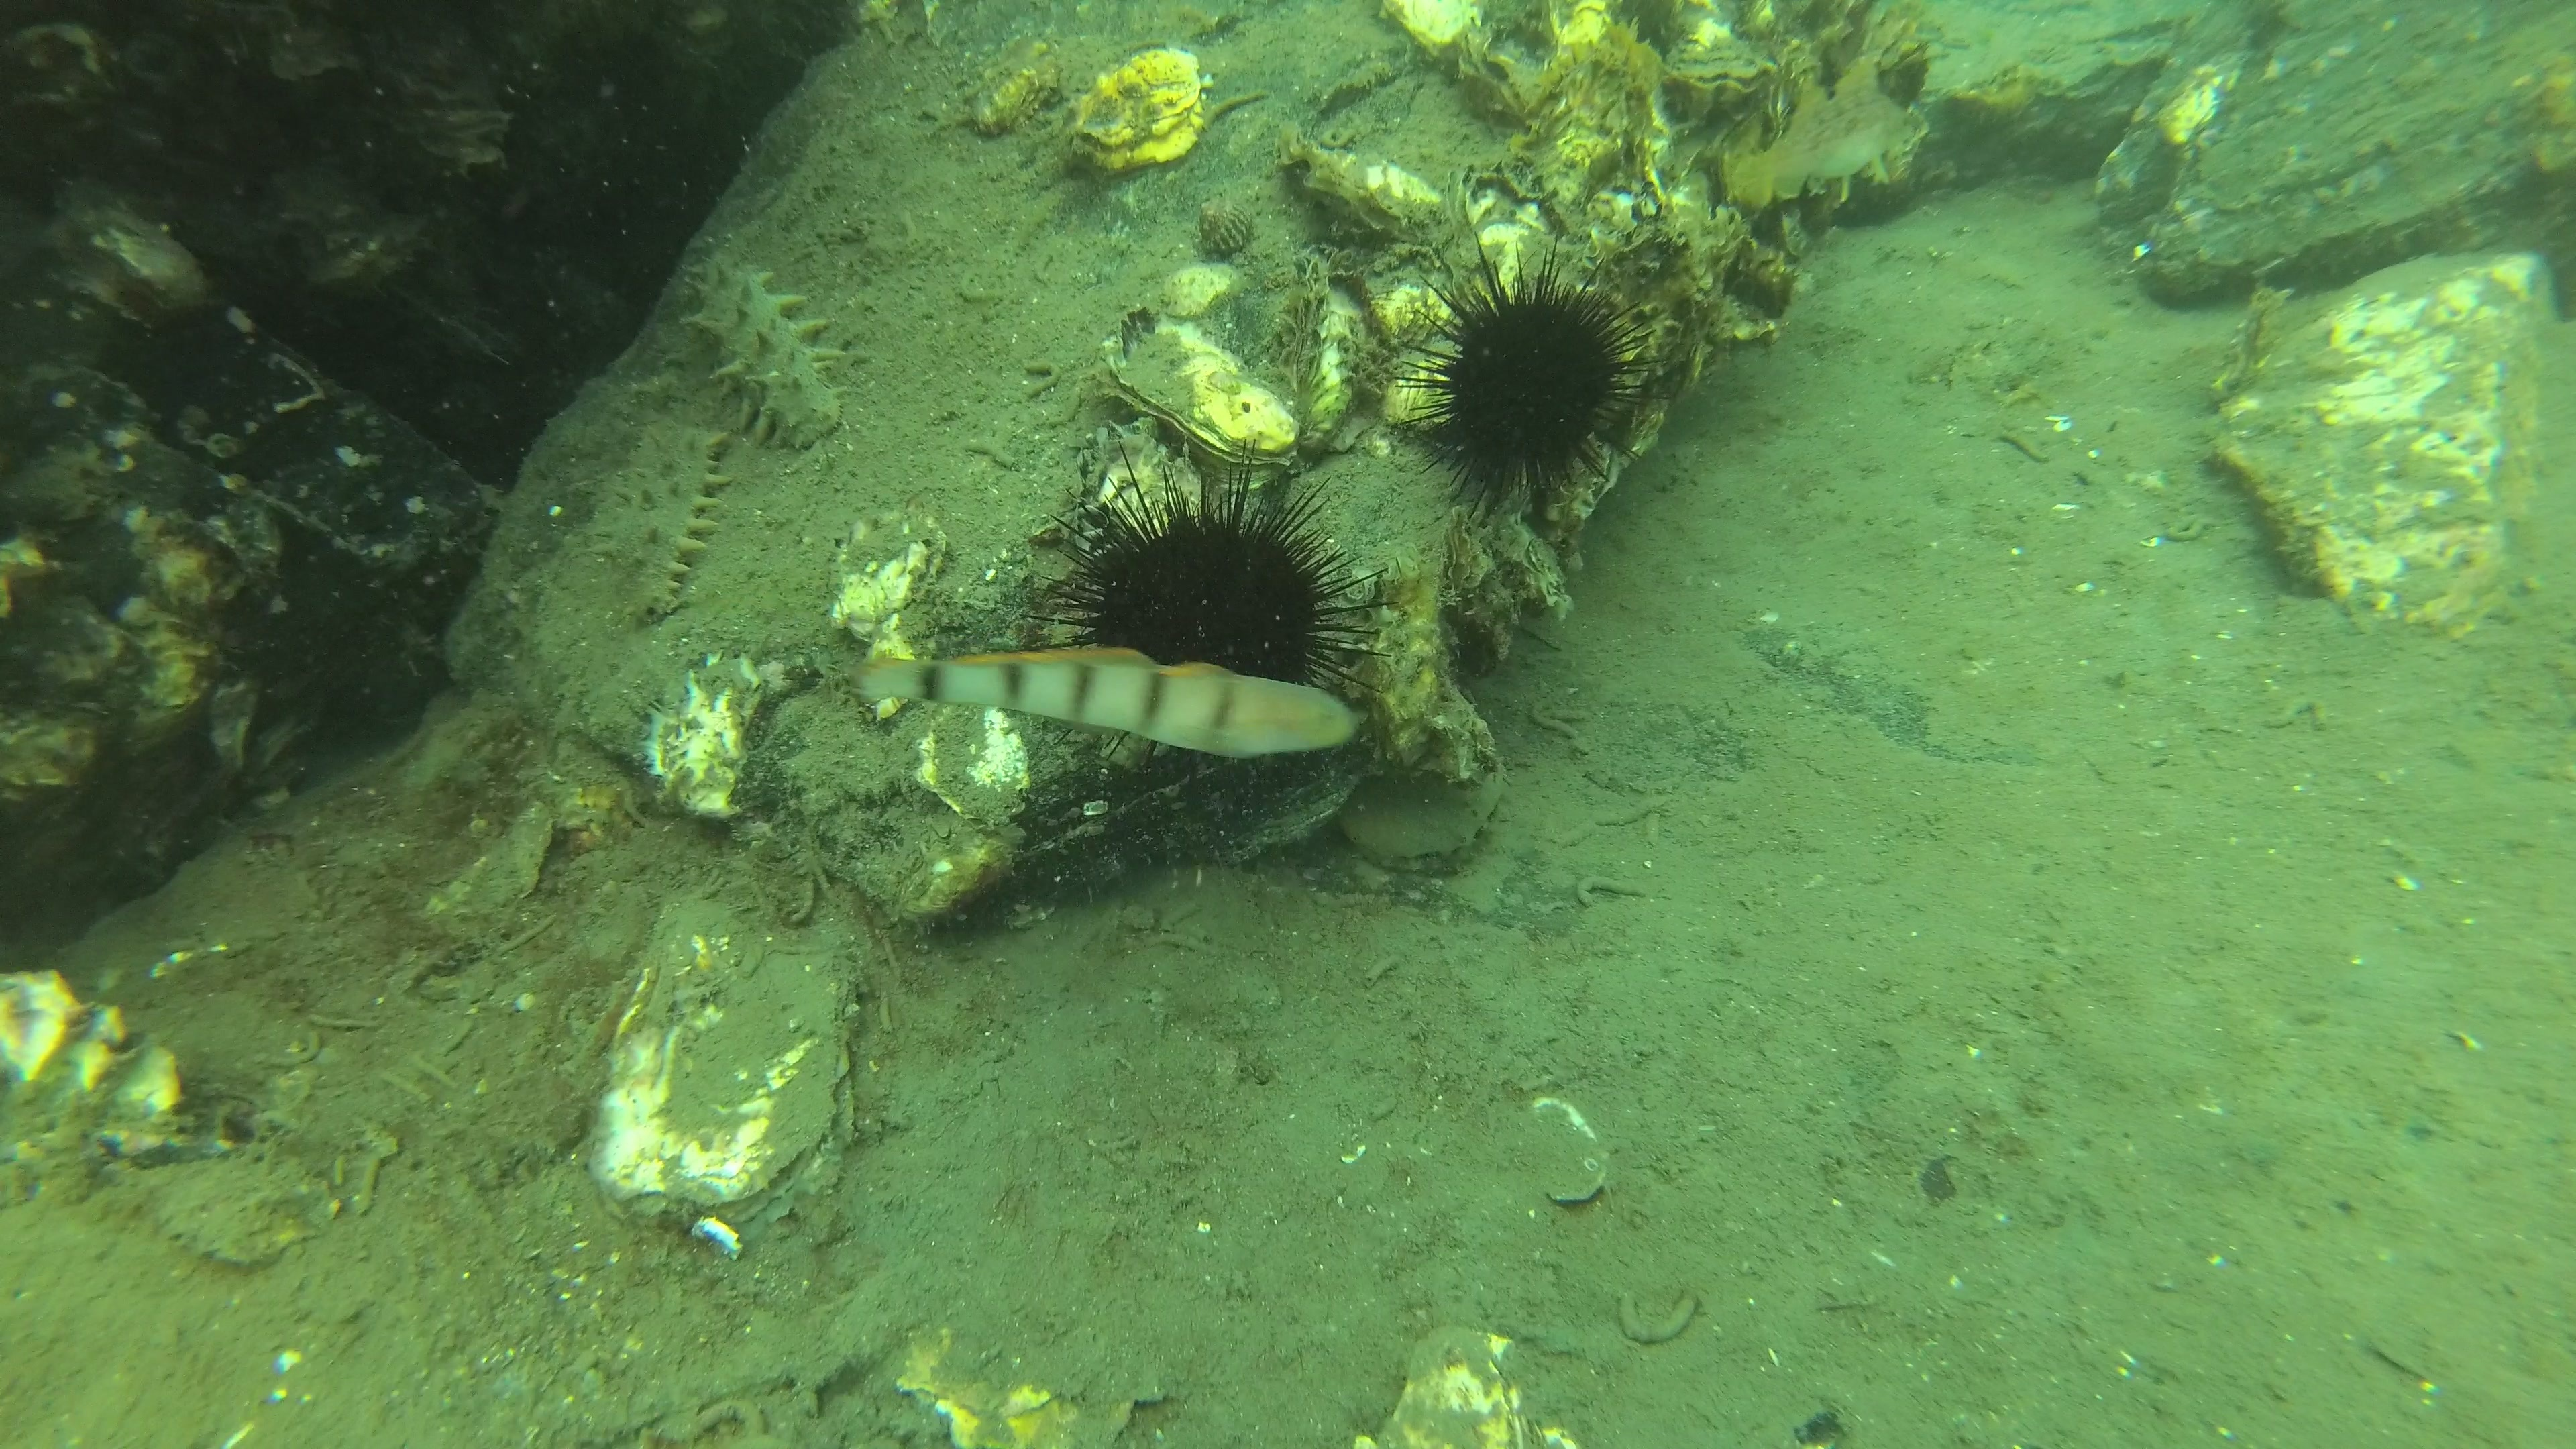echinus: (1035, 448, 1369, 708), (1407, 230, 1661, 531)
holothurian: (669, 239, 856, 456), (589, 425, 741, 628)
